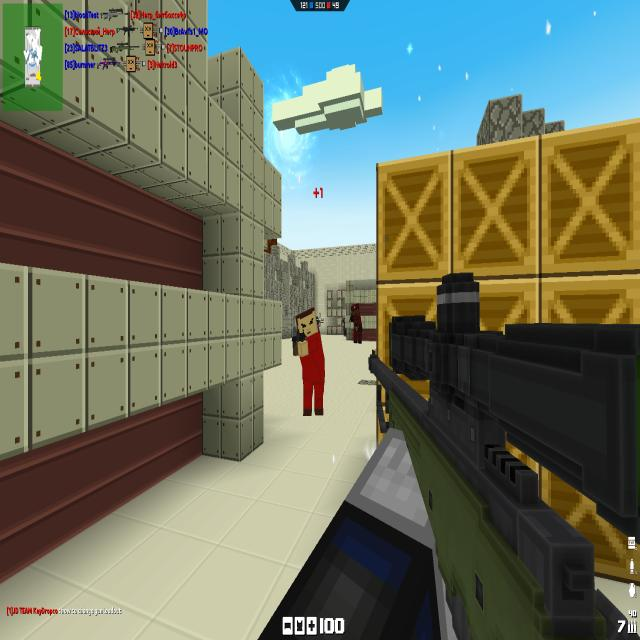player: (293, 306, 324, 417), (350, 303, 362, 344), (341, 316, 346, 335), (317, 312, 322, 328)
